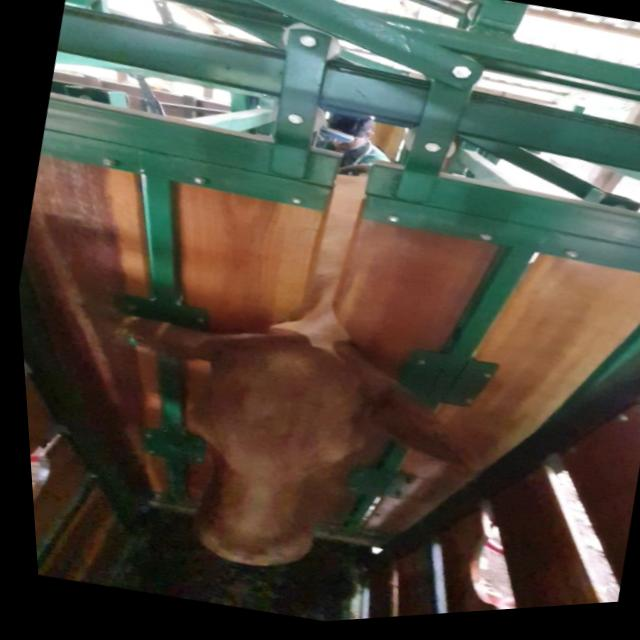cowFace: (148, 324, 385, 593)
